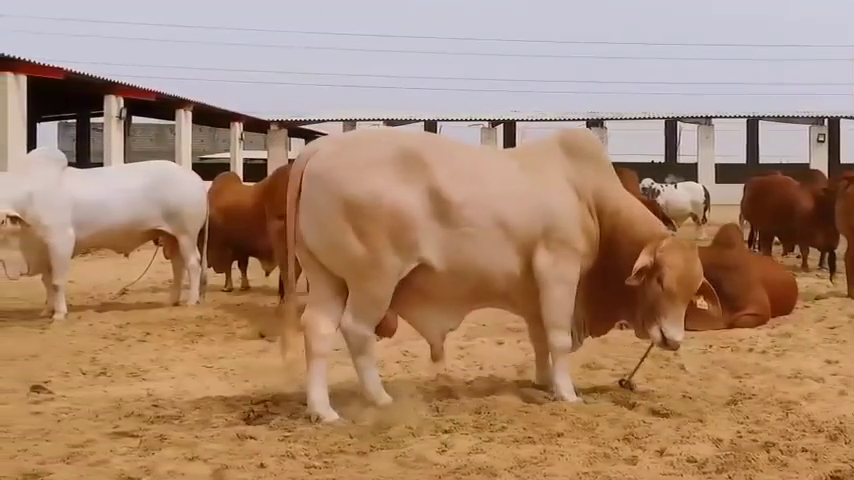bo: (266, 126, 723, 427), (2, 146, 211, 327), (679, 222, 802, 332), (204, 159, 295, 301), (735, 162, 839, 275), (639, 173, 712, 242)
